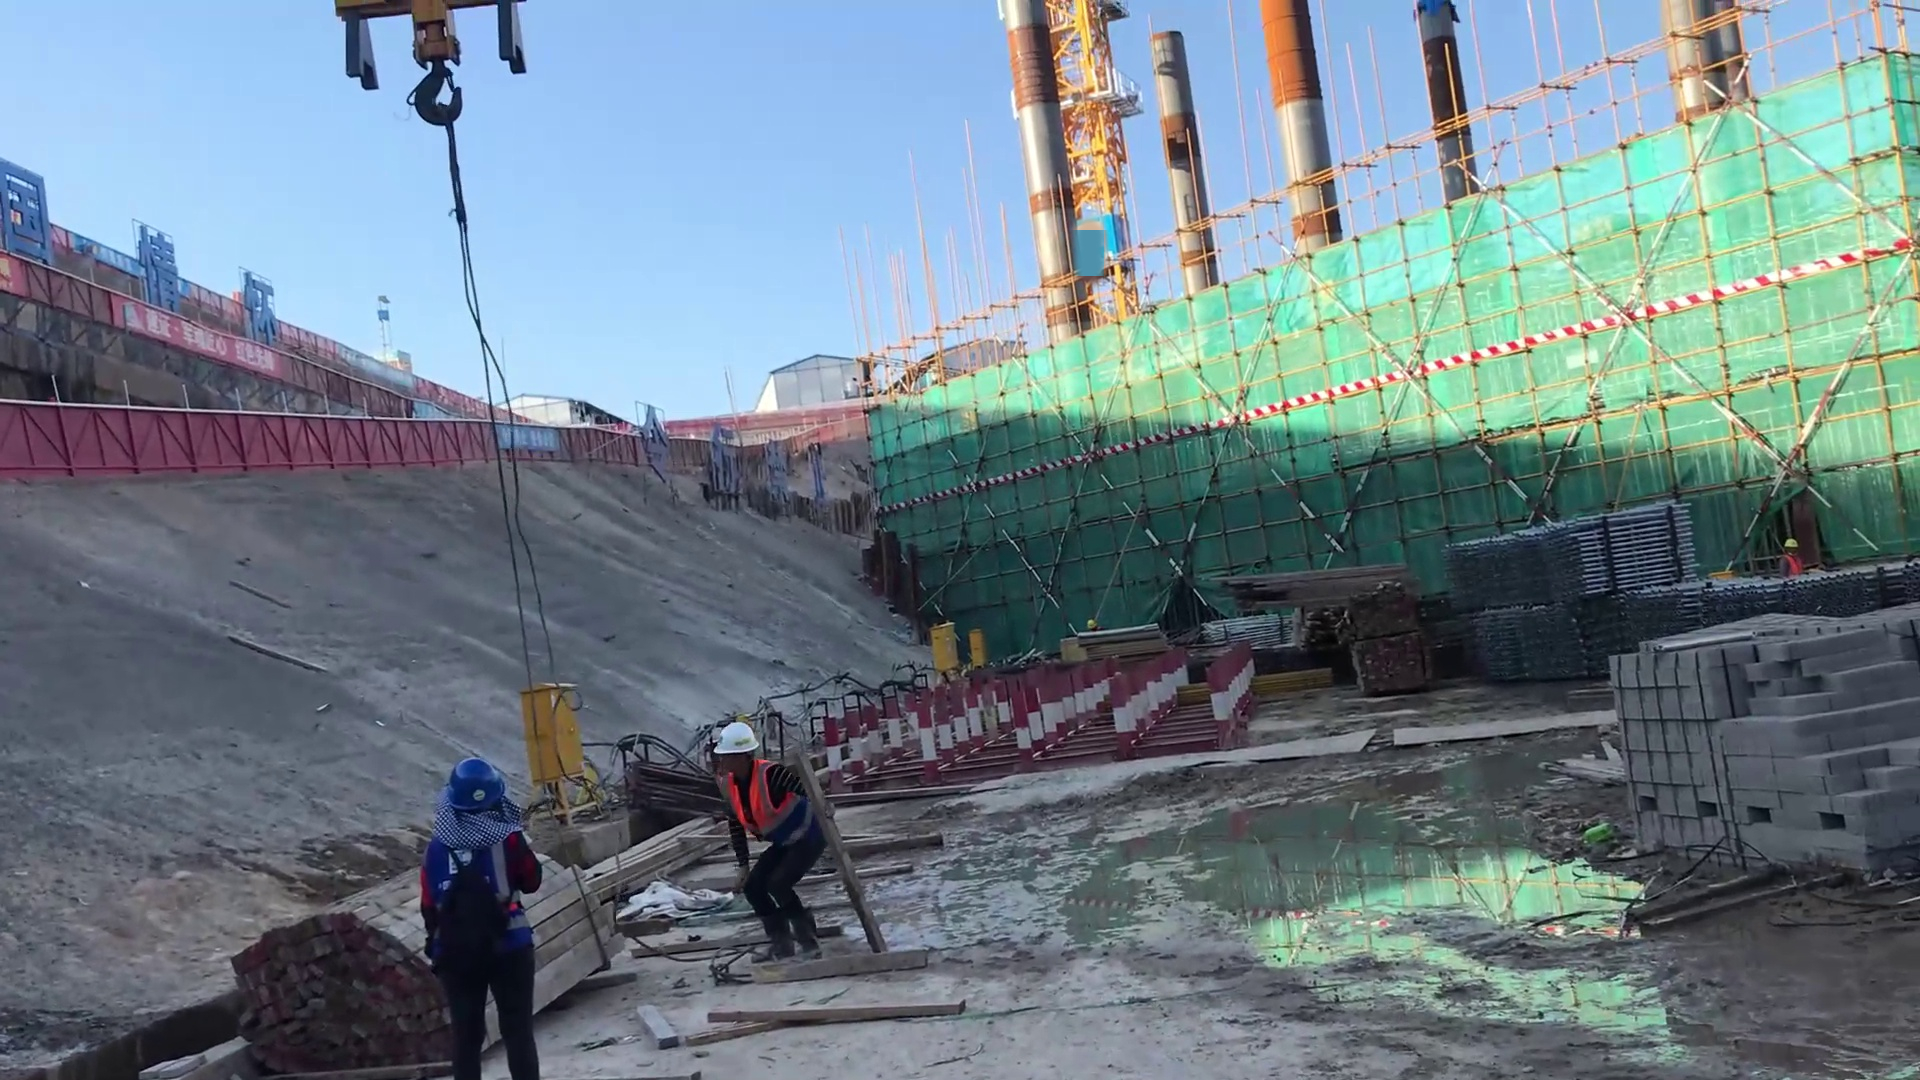board: (1584, 619, 1892, 875)
ebox: (506, 660, 611, 790), (922, 619, 964, 678), (966, 629, 986, 678)
fence: (1, 402, 400, 481), (401, 424, 643, 472)
helmet: (437, 753, 512, 805), (709, 716, 758, 757), (1083, 620, 1097, 631)
person: (401, 757, 562, 1080), (693, 726, 838, 970), (1774, 535, 1807, 578)
scaffold: (1451, 504, 1718, 590)
vest: (720, 770, 786, 827)
wood: (206, 867, 436, 1071), (1208, 549, 1411, 618)
